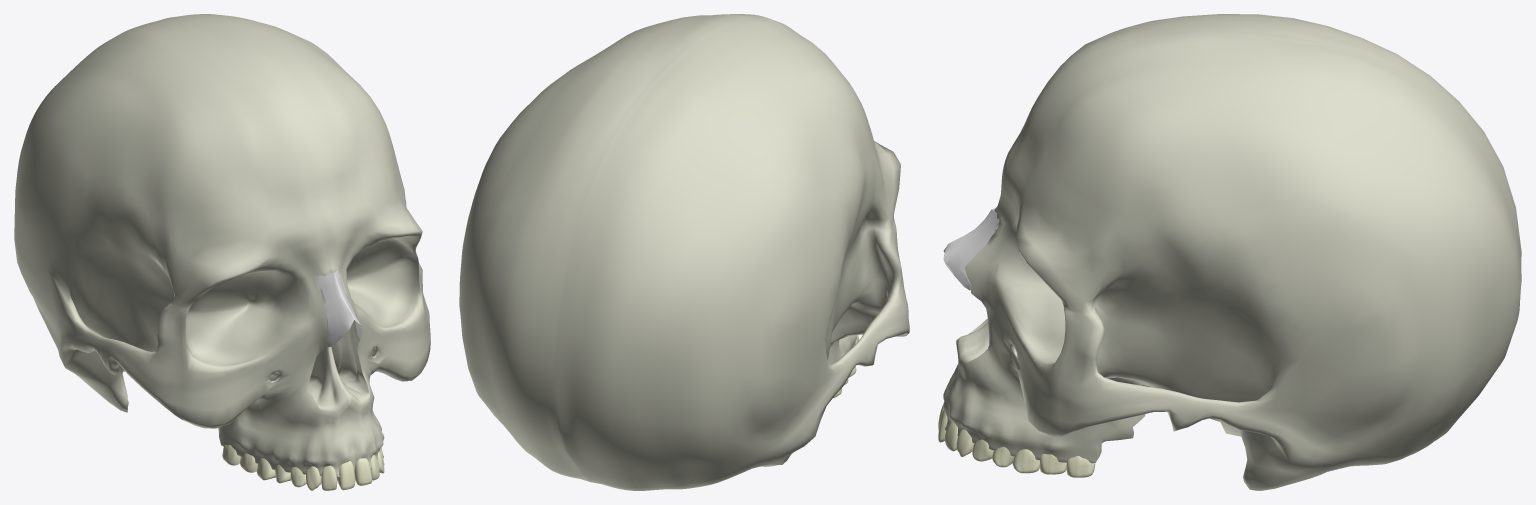
File: skull.fbx
3 renders of one model, left to right at view 1: azimuth 30°, elevation 25°; view 2: azimuth 150°, elevation 25°; view 3: azimuth 270°, elevation 25°, orthographic. The views are drawn at different scales.
Parts seen in each view (by area): view 1: Skul.000; view 2: Skul.000; view 3: Skul.000.
Boxes of the visible parts, x1=… form: Skul.000: x1=14, y1=14, x2=430, y2=490; Skul.000: x1=459, y1=14, x2=909, y2=490; Skul.000: x1=938, y1=14, x2=1521, y2=490.
Size of what is drawn, in the model's own units: 622 by 694 by 895.
